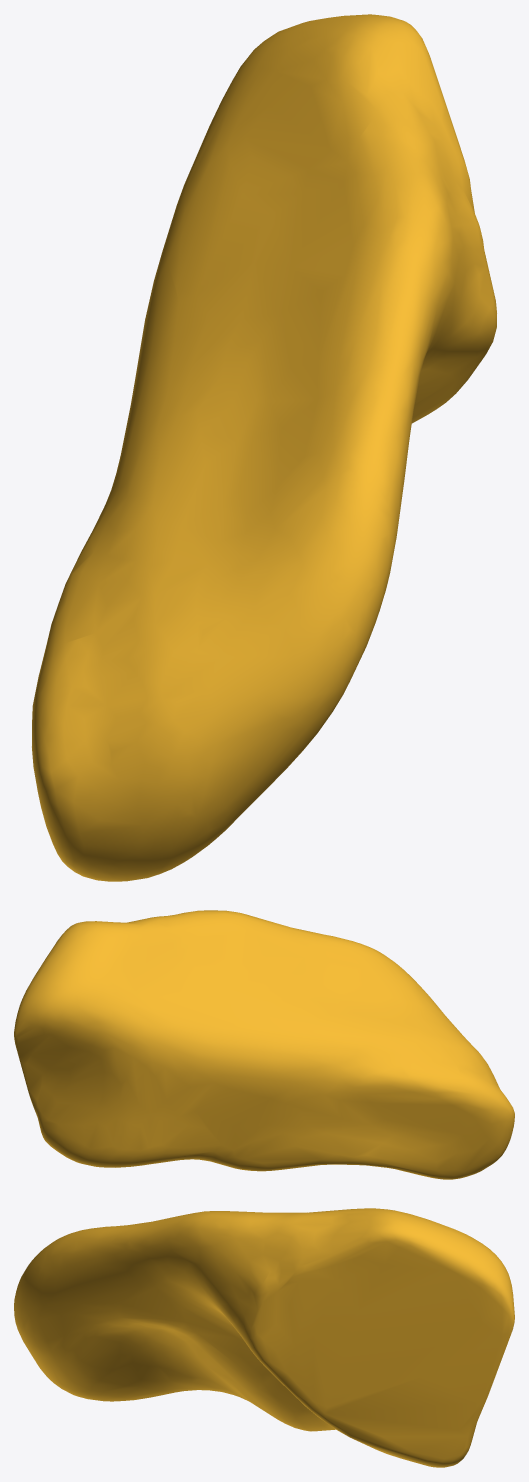
The model's file is nervoso-anterior-quadrangular-lobule-r.glb.
3 renders of one model, top to bottom at view 1: azimuth 30°, elevation 25°; view 2: azimuth 150°, elevation 25°; view 3: azimuth 270°, elevation 25°, orthographic. The views are drawn at different scales.
Visible parts, largest first — view 1: Anterior quadrangular lobule.r; view 2: Anterior quadrangular lobule.r; view 3: Anterior quadrangular lobule.r.
Boxes of the visible parts, box(x1,y1,x2,y2) form: Anterior quadrangular lobule.r: box(32, 14, 496, 881); Anterior quadrangular lobule.r: box(14, 910, 514, 1179); Anterior quadrangular lobule.r: box(14, 1208, 514, 1467).
Size of the model in its own units: 0.0305 by 0.0251 by 0.0348.
